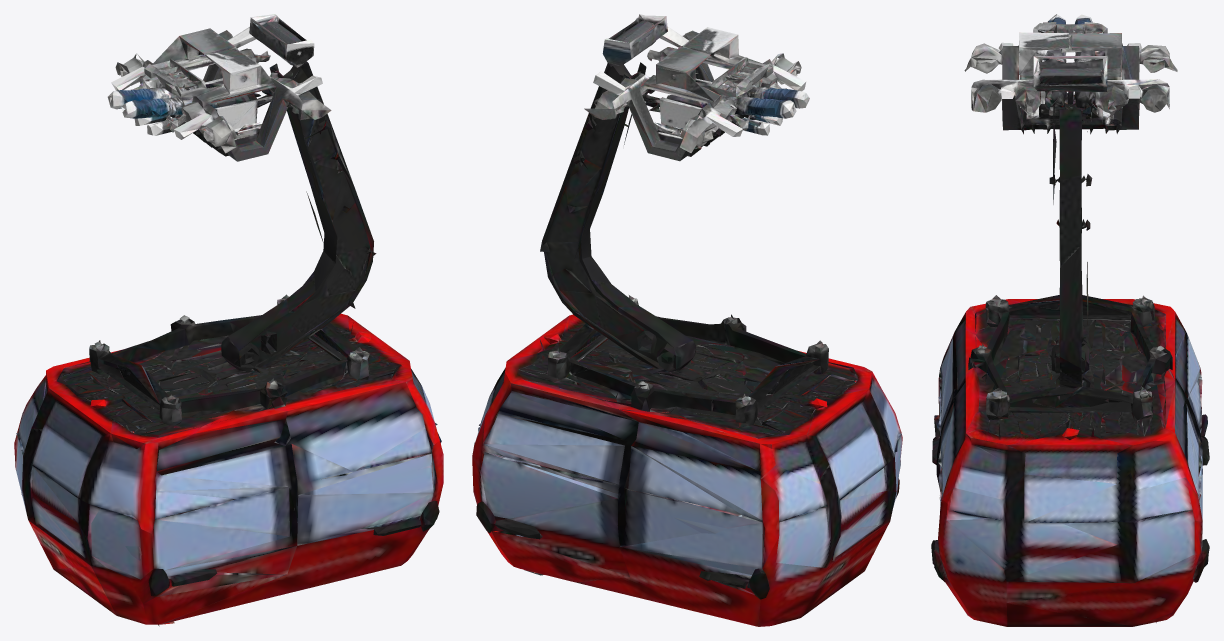
File: bondinho_cabine.glb
3 renders of one model, left to right at view 1: azimuth 30°, elevation 25°; view 2: azimuth 150°, elevation 25°; view 3: azimuth 270°, elevation 25°, orthographic.
Parts seen in each view (by area): view 1: output_unwrapped; view 2: output_unwrapped; view 3: output_unwrapped.
Part boxes in pixels (x1,y1,x2,y2): output_unwrapped: (14, 14, 443, 626); output_unwrapped: (472, 14, 902, 626); output_unwrapped: (931, 14, 1209, 626).
Size of the model in its own units: 1.33 by 1.9 by 0.905.
1 material, 1 textured.
